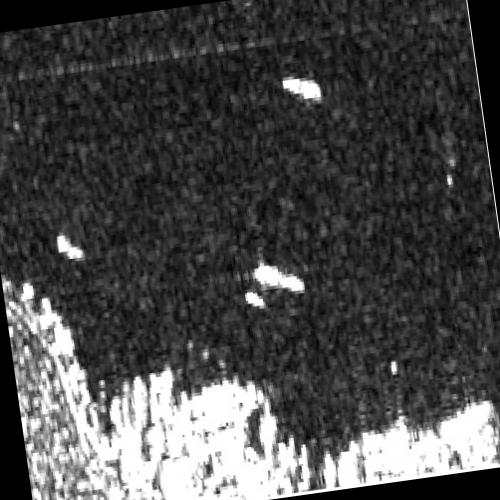ship: (253, 264, 306, 293), (280, 73, 324, 103), (56, 232, 84, 260), (245, 291, 267, 309)
